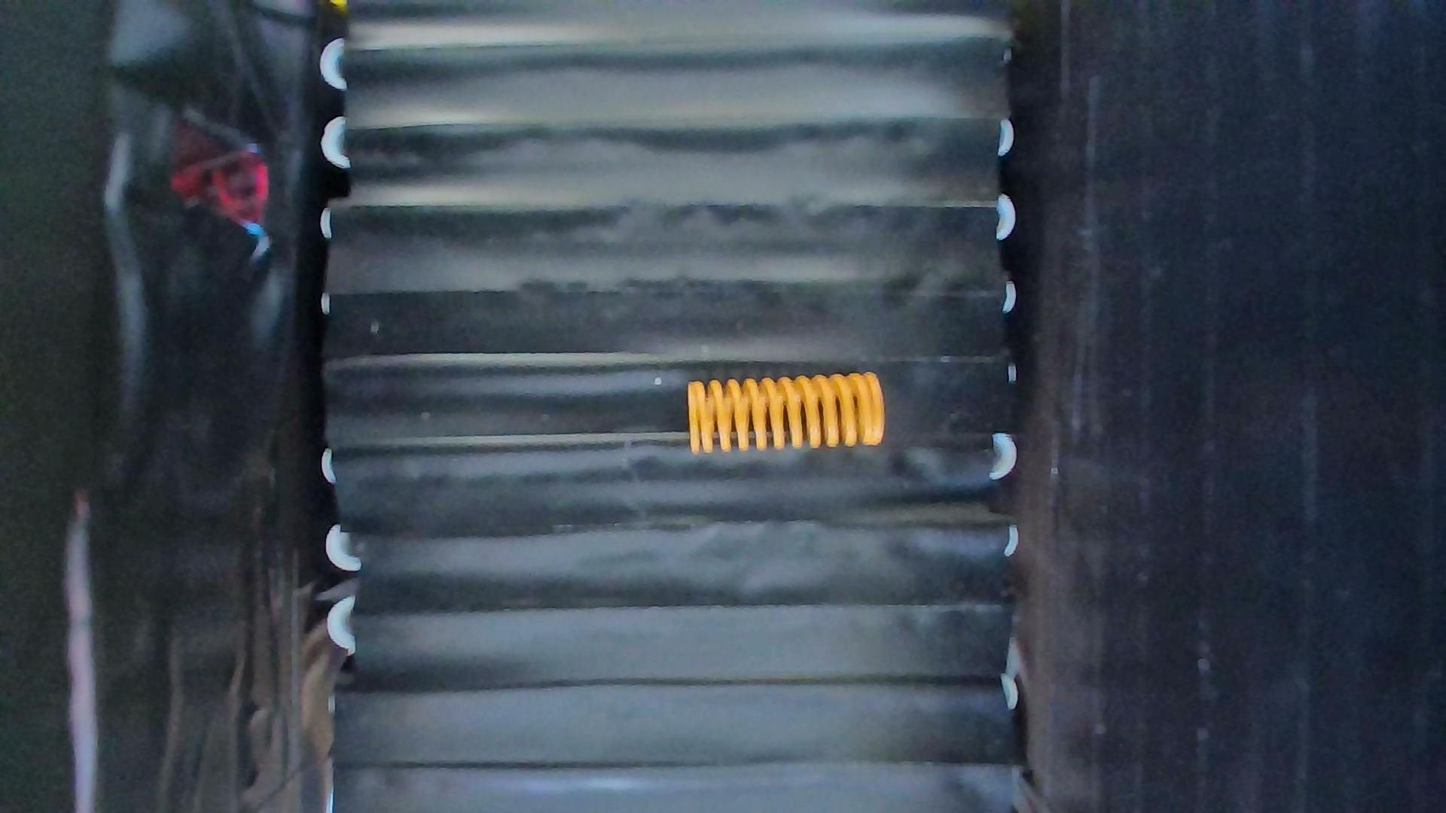spring: (686, 372, 884, 455)
